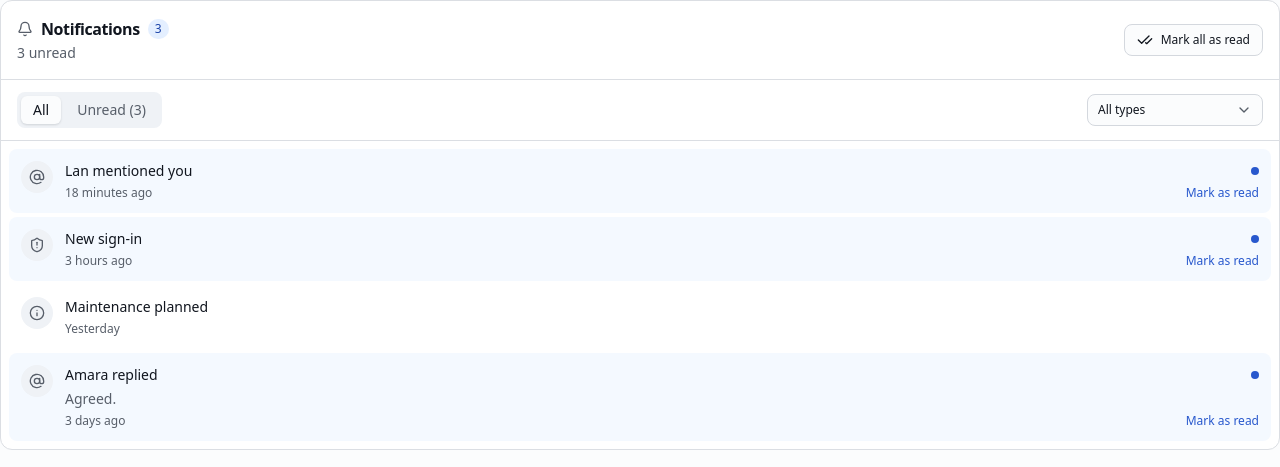
Test case: NotificationCenter › marks everything read
What coordinates should you click on to do the following:
click the button "Mark all as read"
I would click on:
 (1193, 40)
Its box is [1124,24,1263,56].
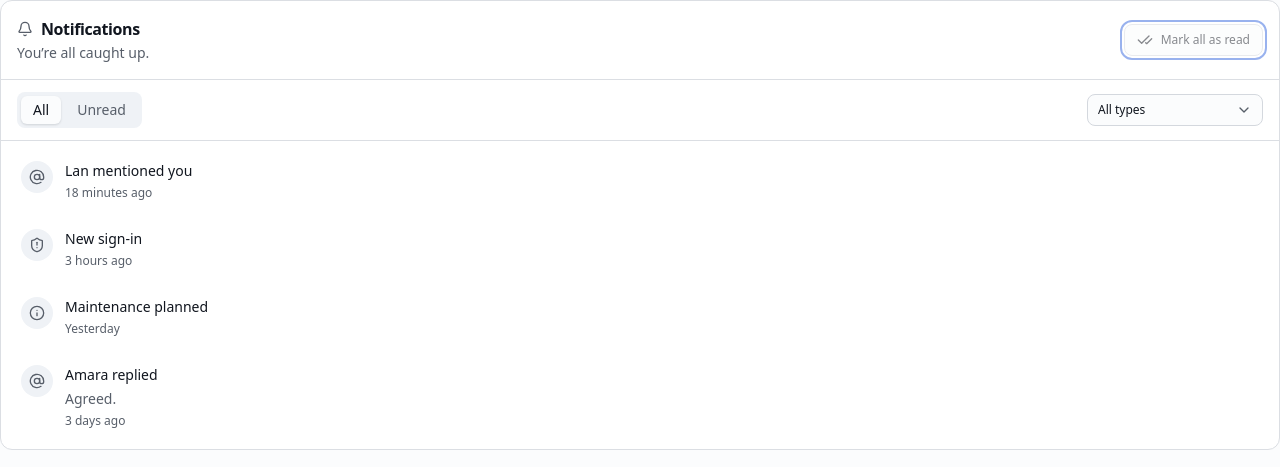
Expected: the message reads "You’re all caught up.", [17,43,149,62]
